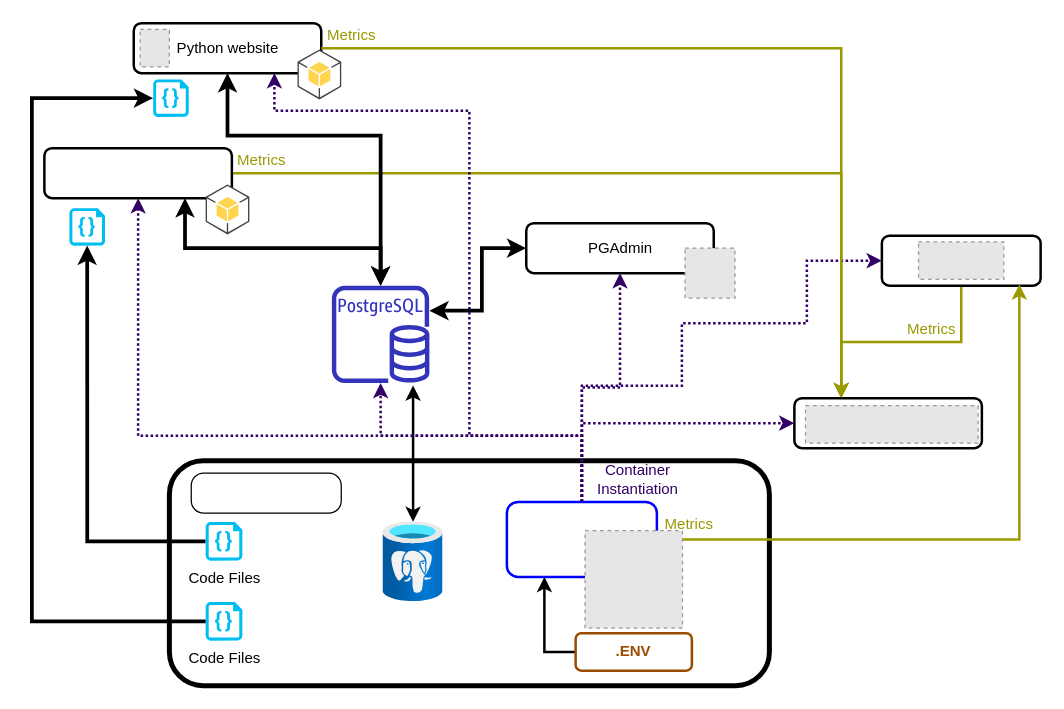
The diagram is 1064 pixels wide and 709 high, and some of its shapes have lost their labels. Grey dashed boxes stand in for pictures. Here are the shapes that lost their labels. From the top down, the centre of each, then its label:
At (137,172): "Python microservice".
At (265,492): "HOST".
At (581,539): "DOCKER".
At (412,561): "DB persistance on host".
